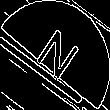N_SW: (28, 23, 82, 87)
